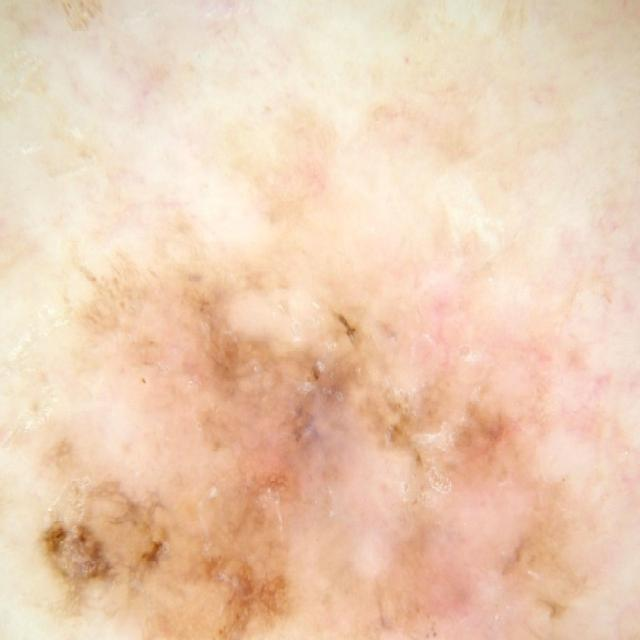Melanoma: (23, 215, 639, 640)
